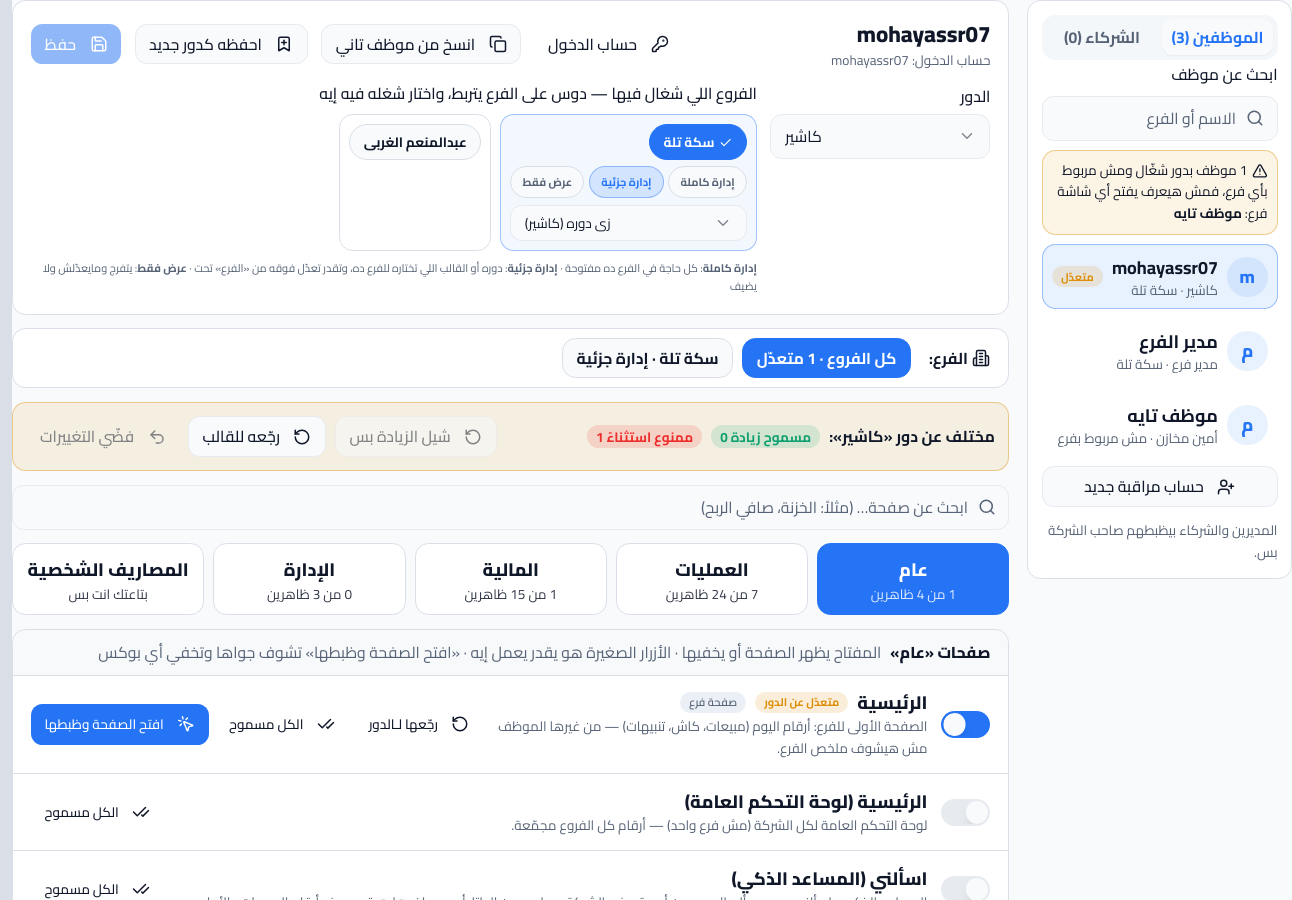
Test: Employees permissions screen › per branch: hides the home page in سكة تلة only
This screenshot has width=1292, height=900.
Later steps or results of the test are not shown.
Expected: the element named "الفرع اللي بتظبطه" shows "كل الفروع", x1=742 y1=338 x2=911 y2=378
Click the tab "سكة تلة · إدارة جزئية" at (648, 358), box x1=562 y1=338 x2=733 y2=378
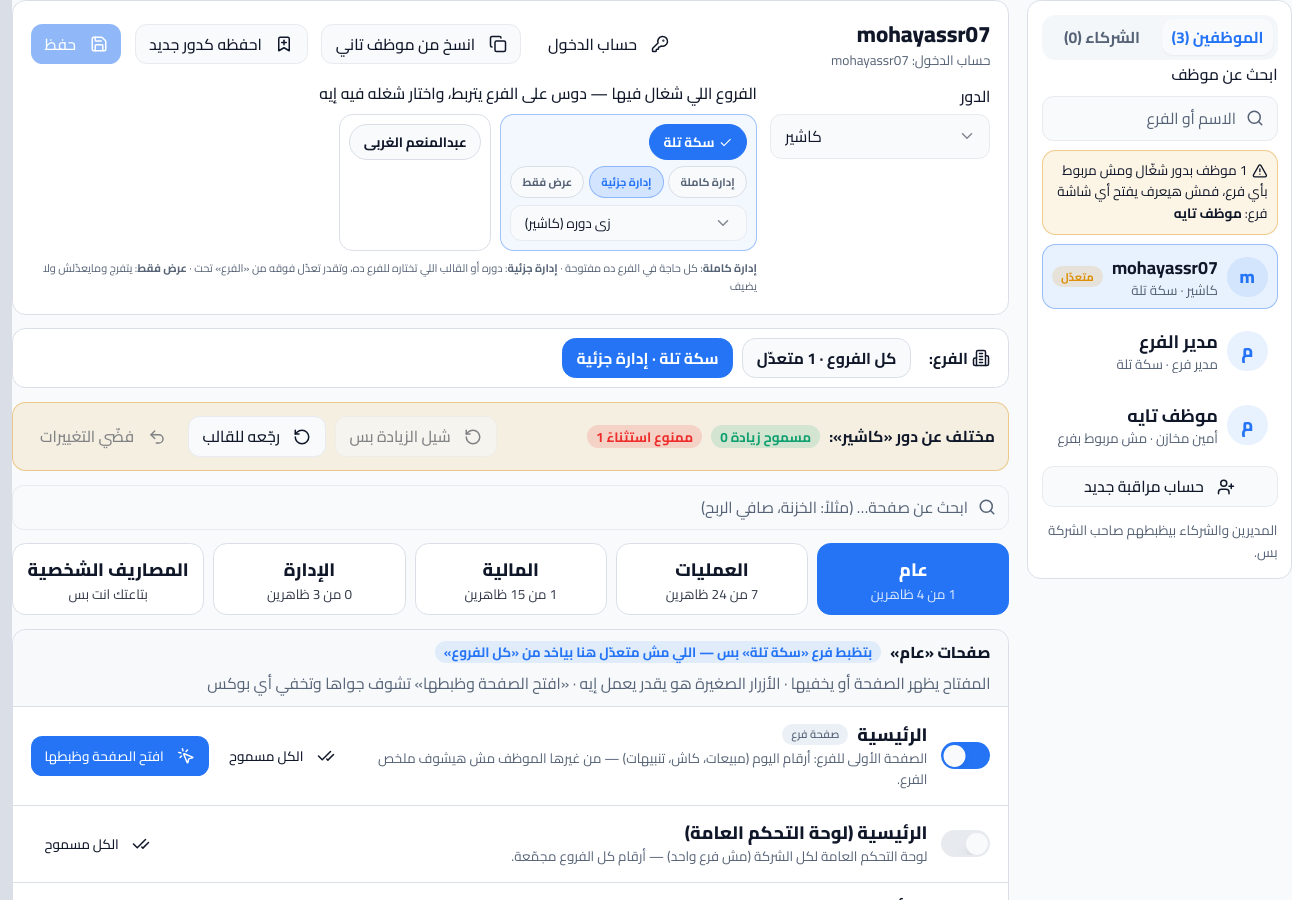
Expected: the text "بتظبط فرع «سكة تلة» بس" is shown, x1=444 y1=639 x2=872 y2=665
Click the switch named "إخفاء الرئيسية" at (966, 756), box x1=941 y1=742 x2=990 y2=769
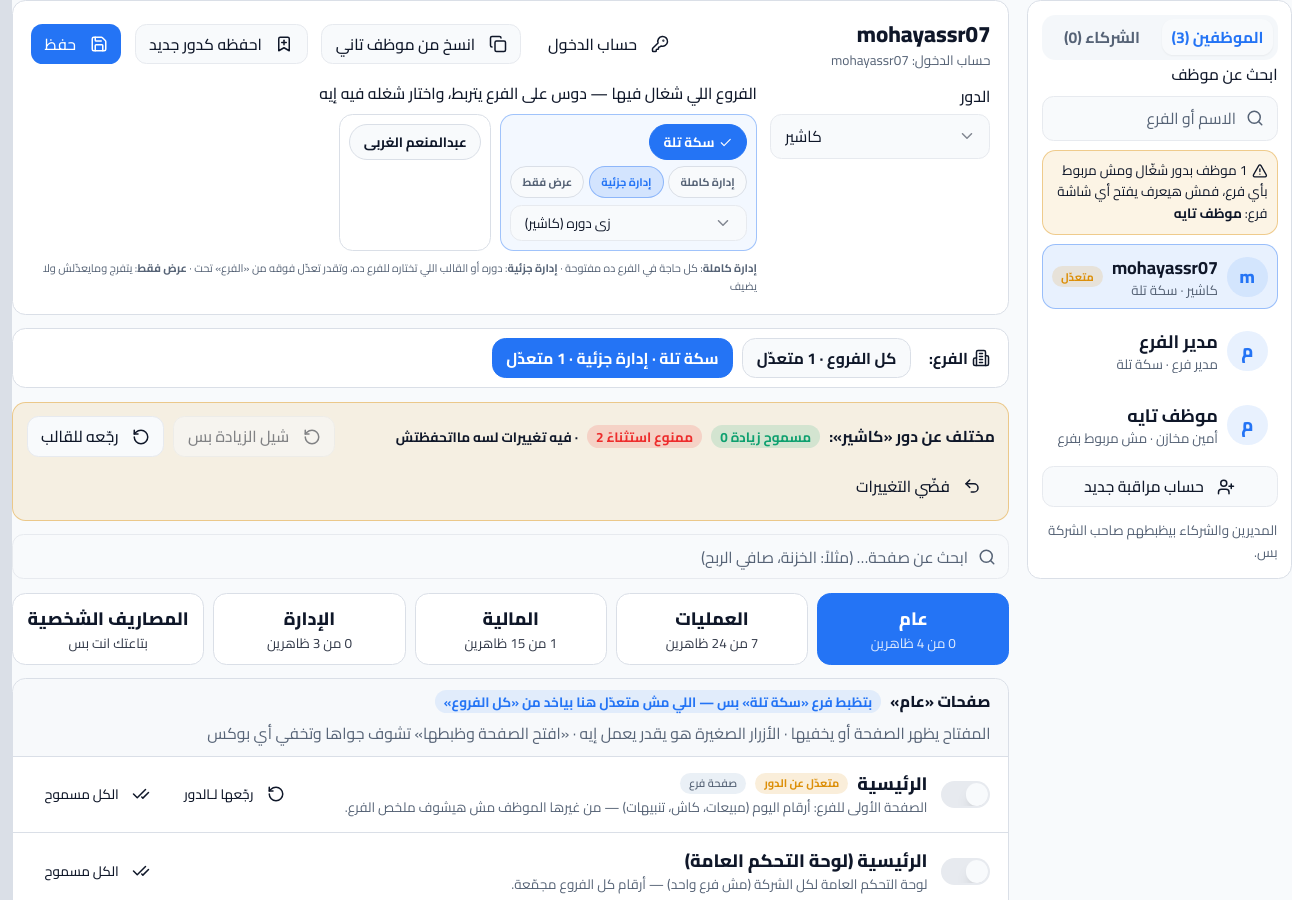
Expected: the tab "سكة تلة · إدارة جزئية · 1 متعدّل" is shown, x1=492 y1=338 x2=733 y2=378
